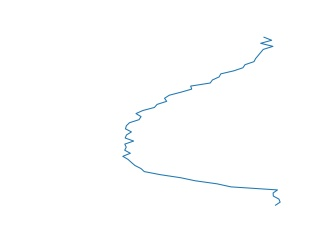underwaterDistributaryChannel: (118, 36, 286, 211)
